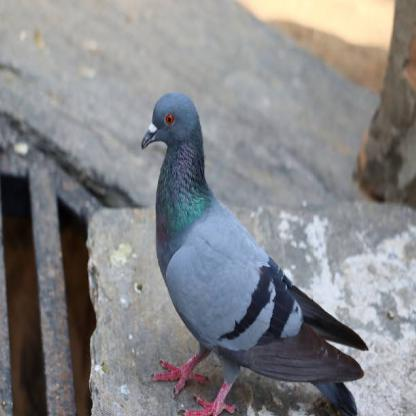Flying Rat: (131, 92, 369, 416)
